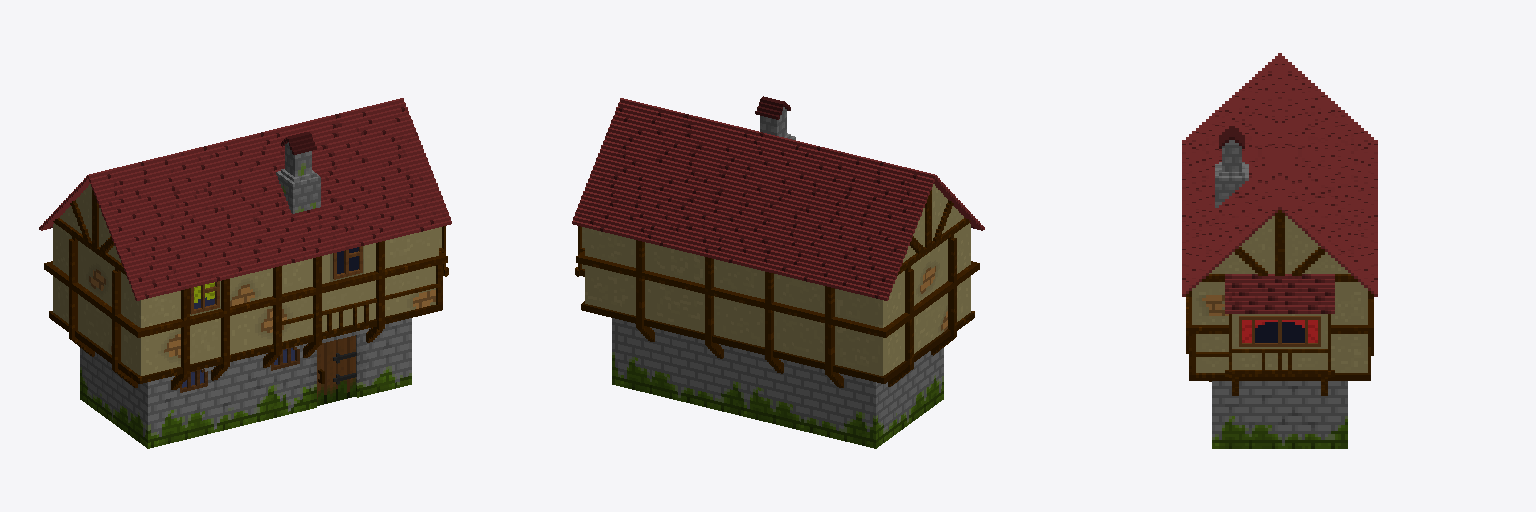
The picture shows the model from 3 angles: view 1: azimuth 30°, elevation 25°; view 2: azimuth 150°, elevation 25°; view 3: azimuth 270°, elevation 25°; orthographic projection.
Visible parts, largest first — view 1: object 1; view 2: object 1; view 3: object 1.
Part boxes in pixels (x1,y1,x2,y2): object 1: (39, 98, 451, 448); object 1: (572, 96, 984, 448); object 1: (1182, 53, 1377, 448).
Size of the model in its own units: 11.7 by 8.9 by 5.9.
Materials: 1 (1 with a texture image).